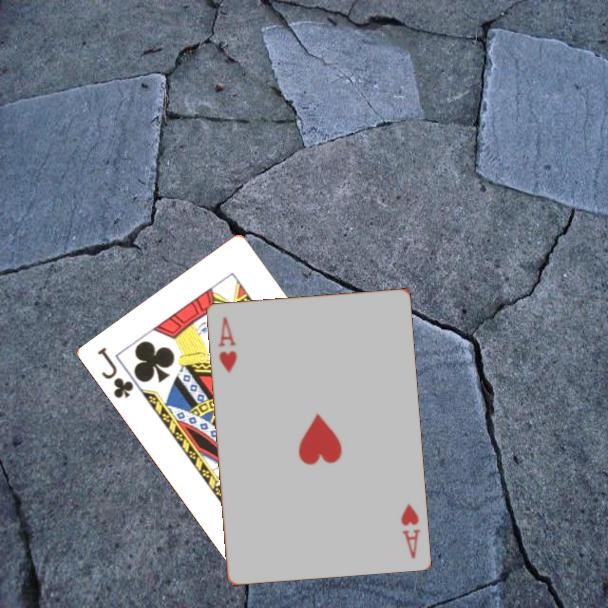c11: (94, 343, 137, 402)
h01: (214, 313, 240, 375), (397, 499, 423, 561)
